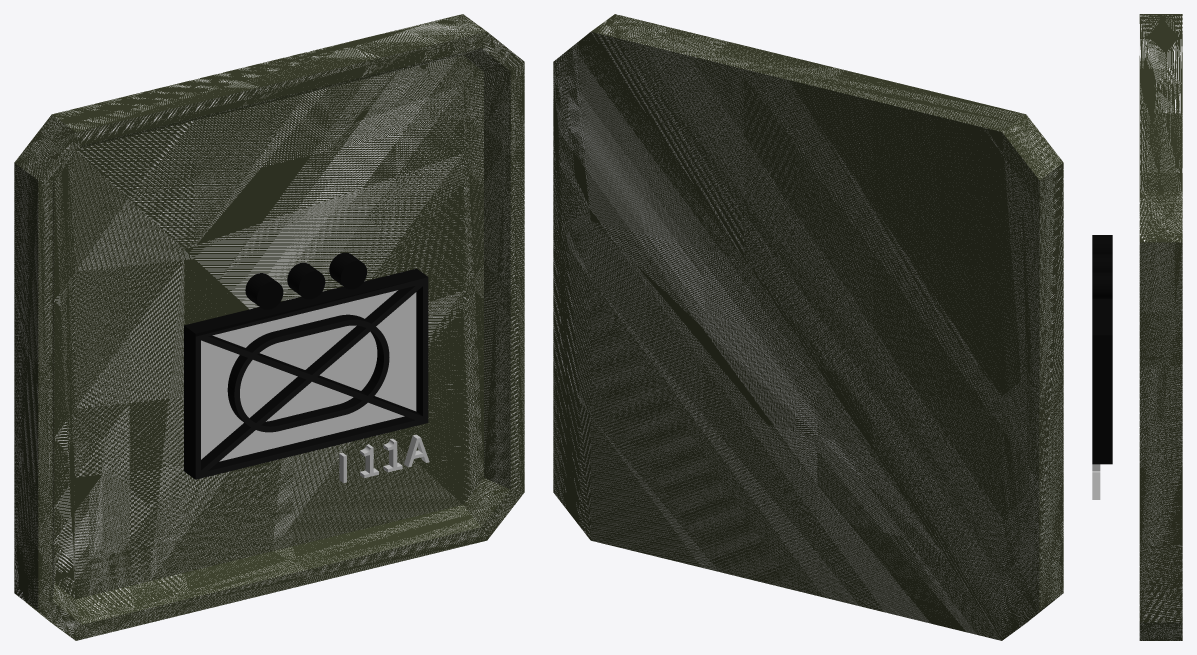
Rendered from ORBAT_-_Mechanized_Infrantry_Dots.obj.
The picture shows the model from 3 angles, left to right: view 1: azimuth 30°, elevation 25°; view 2: azimuth 150°, elevation 25°; view 3: azimuth 270°, elevation 25°; orthographic projection. The views are drawn at different scales.
Visible parts, largest first — view 1: Button.001_ID13, Button_ID3, SM_ORBAT_-_Mechanized_Infrantry_Dots_path1763-2.115; view 2: Button_ID3; view 3: Button_ID3, SM_ORBAT_-_Mechanized_Infrantry_Dots_path1763-2.115.
Part boxes in pixels (bbox=[...]): Button.001_ID13: bbox=[52, 48, 510, 624]; Button_ID3: bbox=[14, 14, 524, 640]; SM_ORBAT_-_Mechanized_Infrantry_Dots_path1763-2.115: bbox=[184, 252, 429, 483]; Button_ID3: bbox=[553, 14, 1063, 640]; Button_ID3: bbox=[1139, 14, 1182, 640]; SM_ORBAT_-_Mechanized_Infrantry_Dots_path1763-2.115: bbox=[1092, 235, 1112, 499].
Size of the model in its own units: 1 by 1 by 0.1819.
